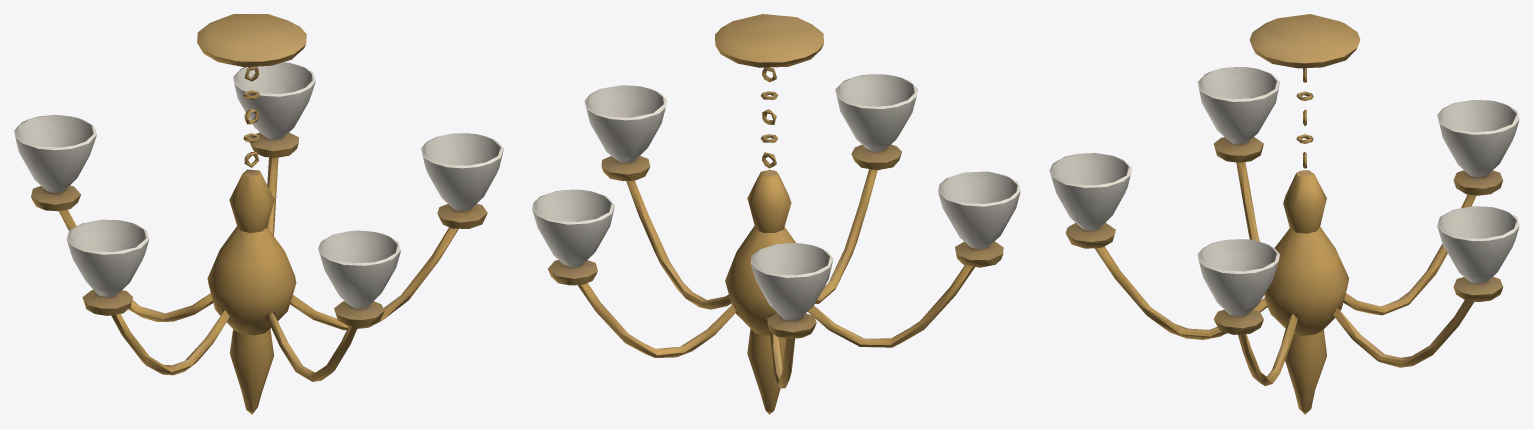
File: chandelier-low.glb
The picture shows the model from 3 angles, left to right: view 1: azimuth 30°, elevation 25°; view 2: azimuth 150°, elevation 25°; view 3: azimuth 270°, elevation 25°; orthographic projection.
Parts seen in each view (by area): view 1: chandelier-low; view 2: chandelier-low; view 3: chandelier-low.
Part boxes in pixels (x1=…): chandelier-low: x1=14, y1=14, x2=503, y2=414; chandelier-low: x1=532, y1=14, x2=1020, y2=414; chandelier-low: x1=1049, y1=14, x2=1519, y2=414.
Size of the model in its own units: 0.6636 by 0.57 by 0.6364.
Materials: 1 (1 with a texture image).
